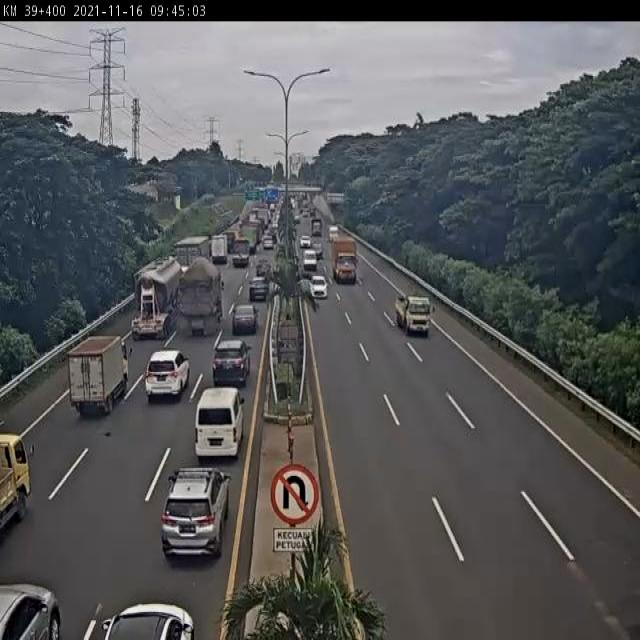Car: (160, 464, 232, 558), (100, 598, 194, 640), (0, 580, 64, 640), (144, 349, 192, 403), (212, 338, 252, 388), (230, 302, 258, 334), (248, 277, 270, 303), (310, 275, 328, 299), (255, 257, 272, 280), (311, 240, 323, 258), (262, 235, 274, 250), (300, 234, 311, 248), (294, 215, 300, 225)
Truck: (67, 336, 129, 418), (0, 428, 38, 536), (132, 257, 182, 339), (177, 256, 225, 338), (395, 293, 433, 336), (330, 236, 358, 284), (172, 233, 211, 266), (238, 222, 260, 256), (231, 235, 251, 266), (210, 235, 228, 265), (221, 228, 238, 254), (310, 217, 324, 239)
Van: (193, 386, 246, 459), (302, 249, 318, 271)
